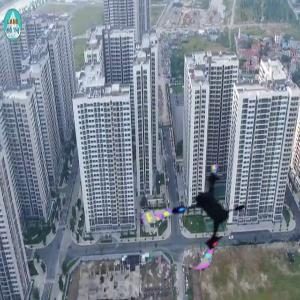drone: (142, 163, 257, 278)
